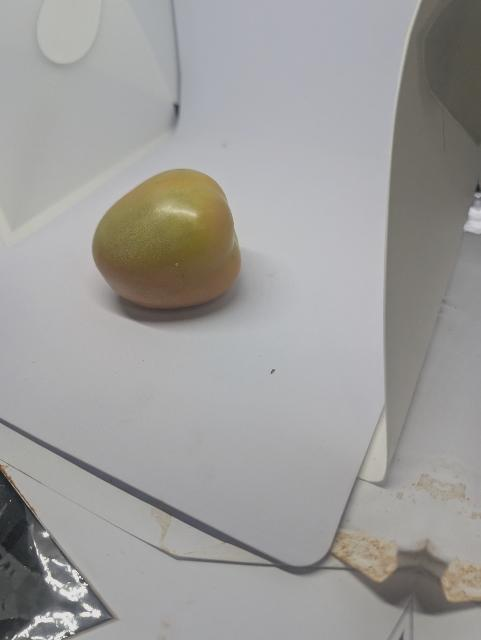breaker: (93, 169, 241, 309)
